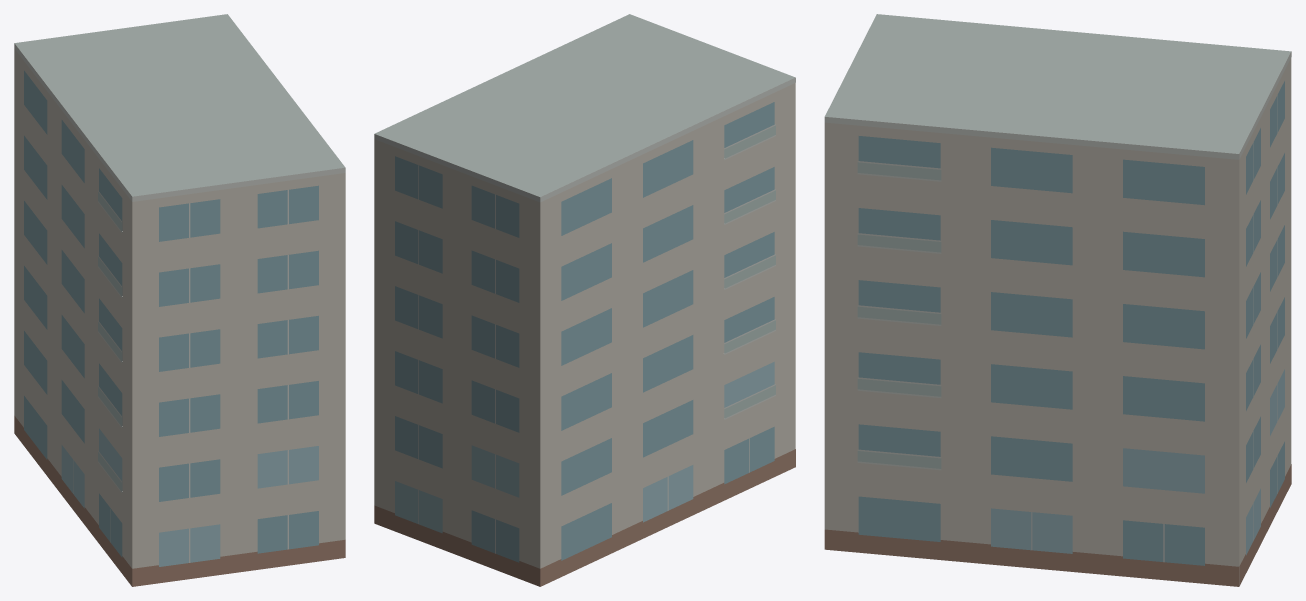
Rendered from survey-upis-32925975.glb.
3 renders of one model, left to right at view 1: azimuth 30°, elevation 25°; view 2: azimuth 150°, elevation 25°; view 3: azimuth 270°, elevation 25°, orthographic. The views are drawn at different scales.
Visible parts, largest first — view 1: survey-upis-32925975.tmp; view 2: survey-upis-32925975.tmp; view 3: survey-upis-32925975.tmp.
Part boxes in pixels (x1,y1,x2,y2): survey-upis-32925975.tmp: (14, 14, 345, 586); survey-upis-32925975.tmp: (374, 14, 795, 586); survey-upis-32925975.tmp: (824, 14, 1291, 586).
Bounding box in the file's own units: 12.57 × 18.1 × 17.7.
